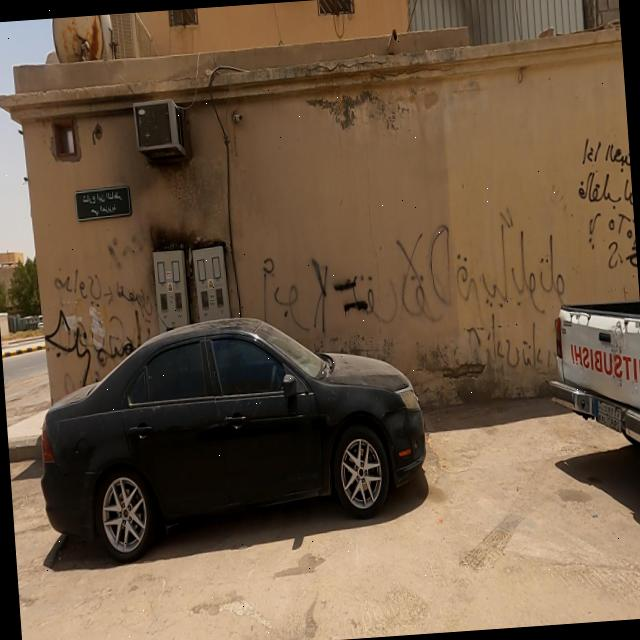Graffiti: (257, 200, 570, 392), (40, 236, 159, 388), (576, 135, 638, 274)
